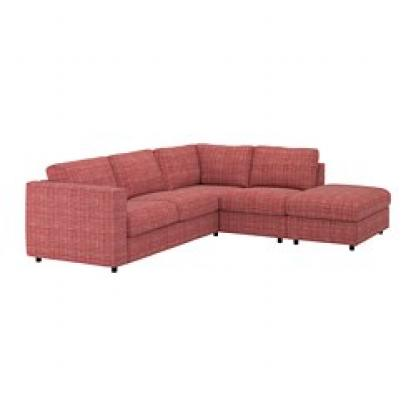Sofa: (13, 116, 396, 280)
